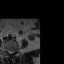CCS_severe_stenosis: (10, 48, 11, 56)
LFS_normal: (13, 48, 15, 54)
LLS_normal: (11, 48, 13, 55)
RFS_normal: (6, 47, 8, 54)
RLS_stenosis: (8, 48, 10, 55)
